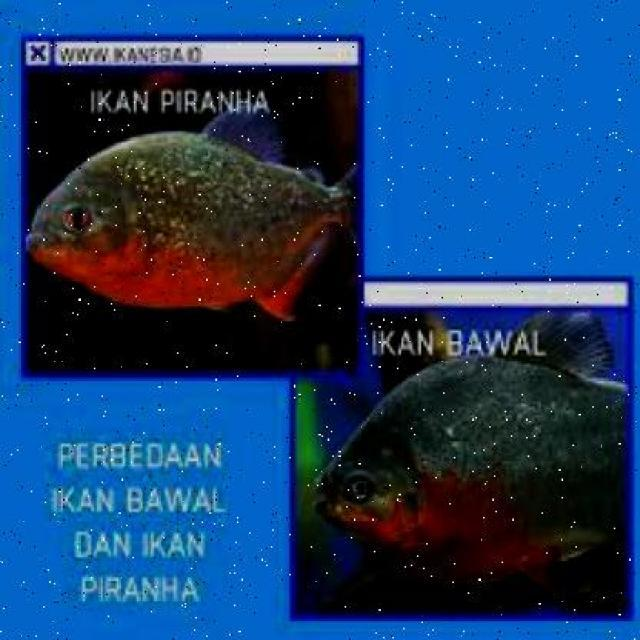ikan-pacu: (318, 358, 626, 584)
